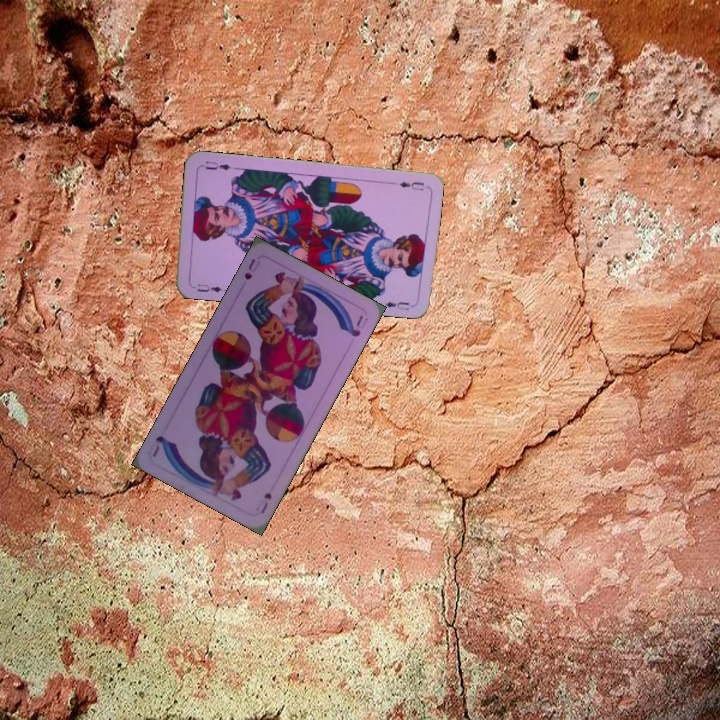EU: (188, 279, 229, 295), (387, 177, 426, 193)
SU: (240, 254, 263, 282), (256, 488, 274, 516)
